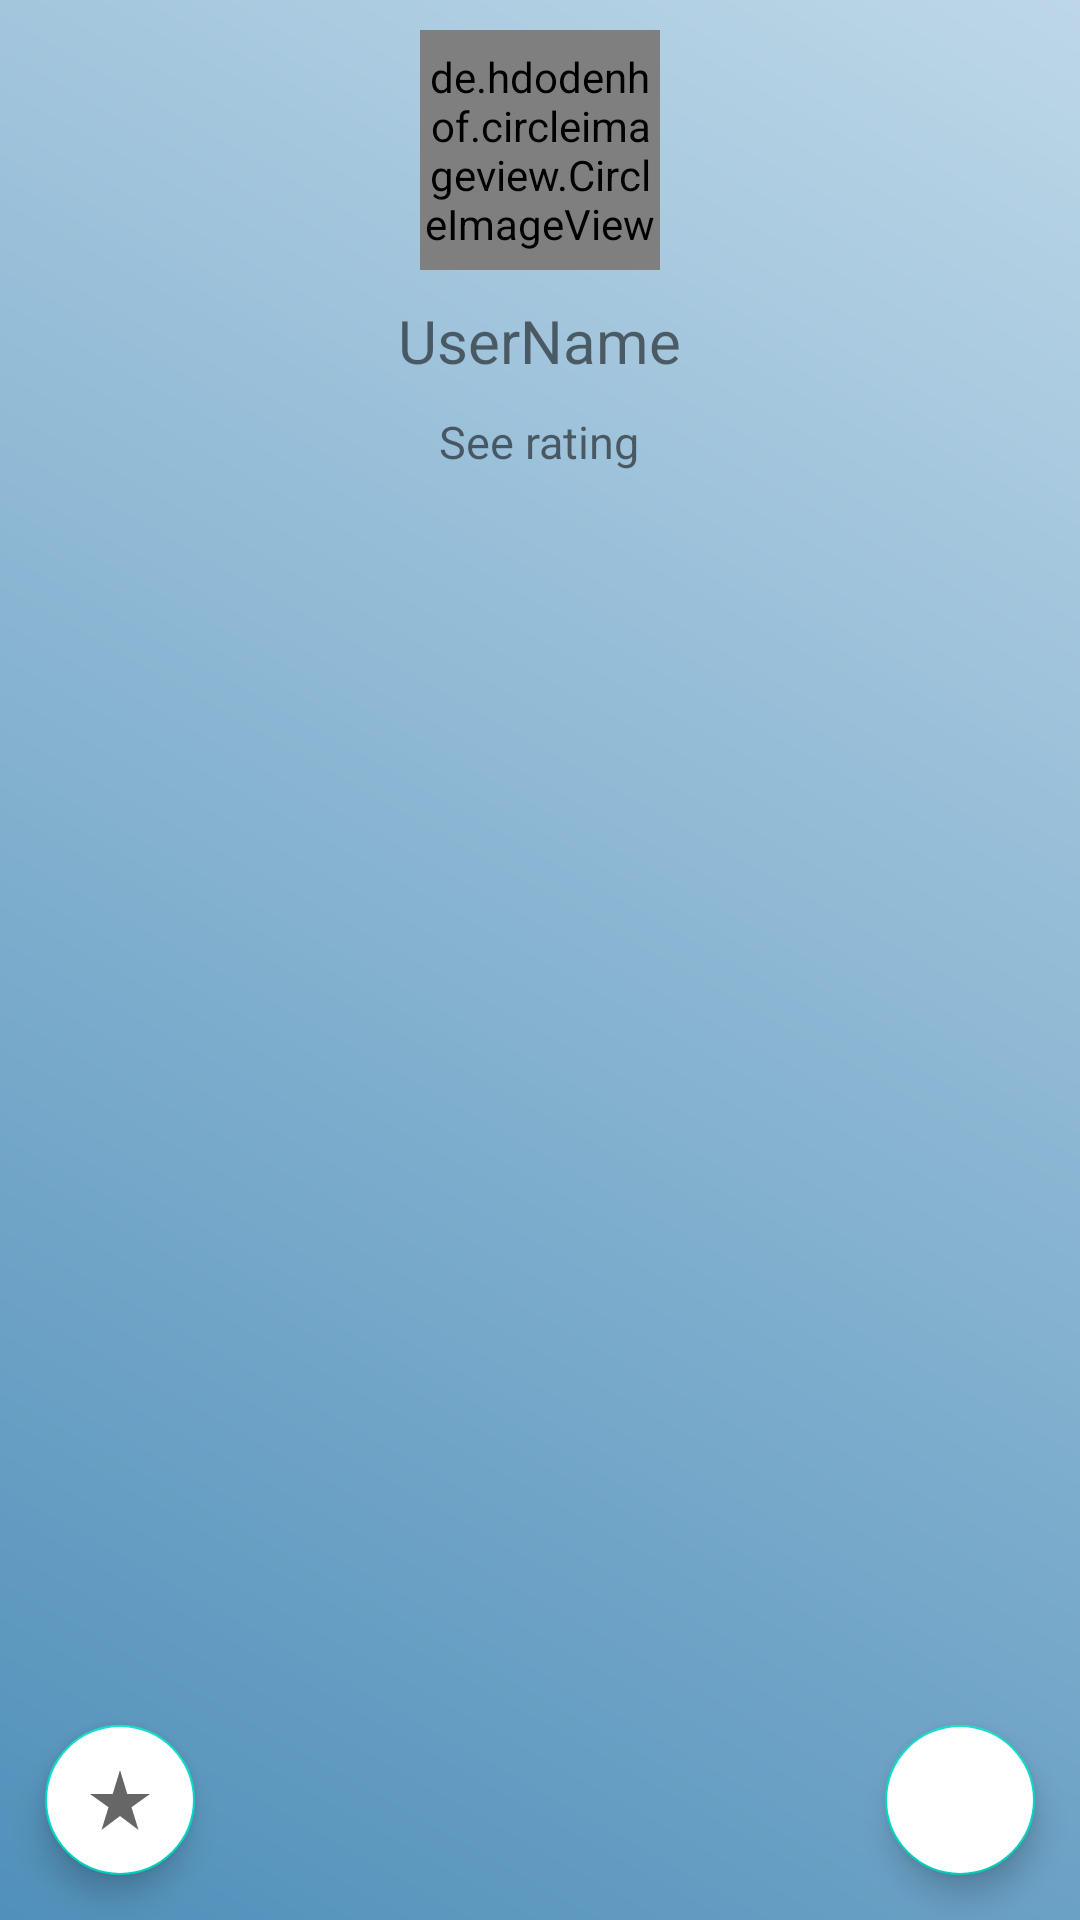

Where to tap for icons on this 1080*1920 app screen, as (x=x, y=y):
myratings: (x=120, y=1805)
